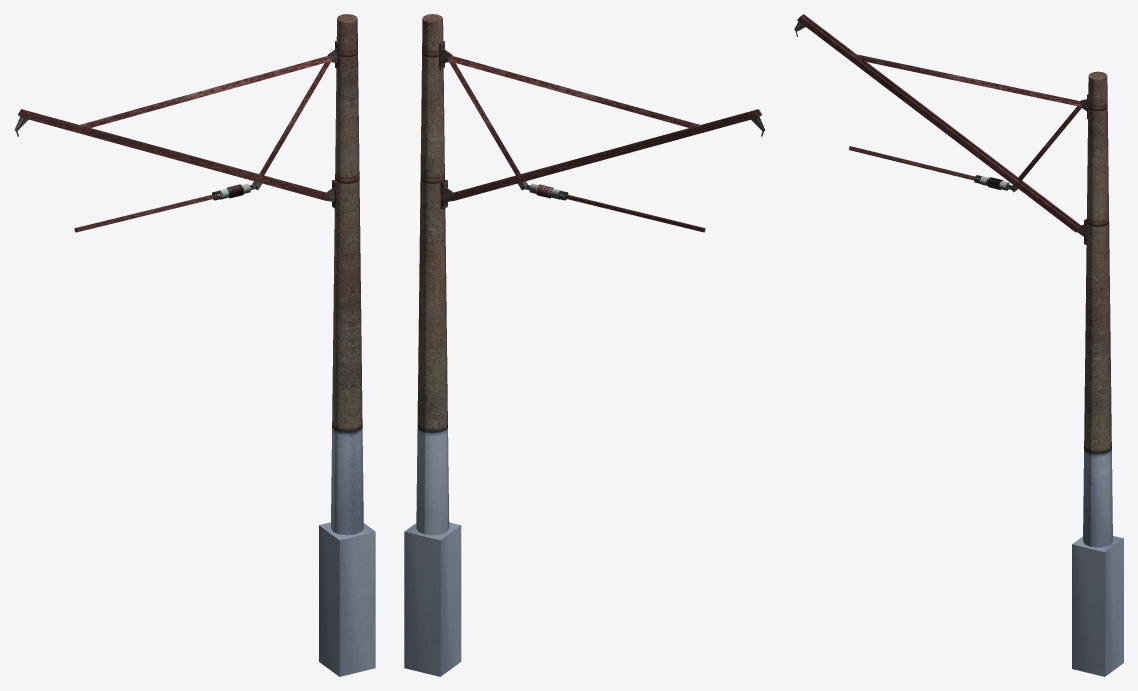
Rendered from opk1r5.gltf.
The picture shows the model from 3 angles, left to right: view 1: azimuth 30°, elevation 25°; view 2: azimuth 150°, elevation 25°; view 3: azimuth 330°, elevation 25°; orthographic projection. The views are drawn at different scales.
Bounding box in the file's own units: 6.53 × 11.49 × 0.67.
1 material, 1 textured.
